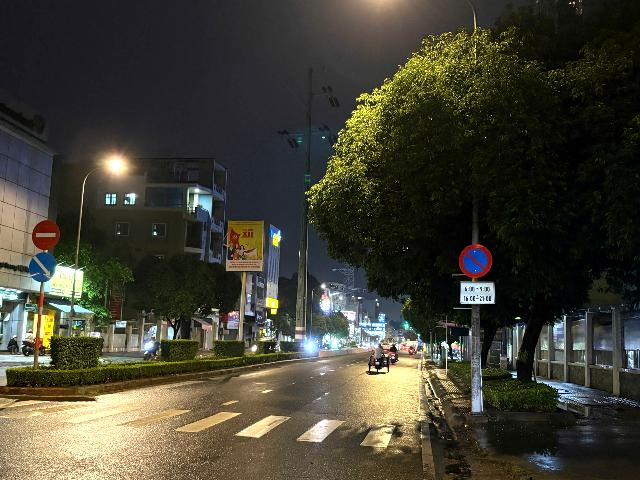cam-di-nguoc-chieu: (31, 219, 61, 252)
cam-do-xe: (459, 243, 492, 279)
huong-phai-di-vong-chuong-ngai-vat: (29, 251, 58, 283)
